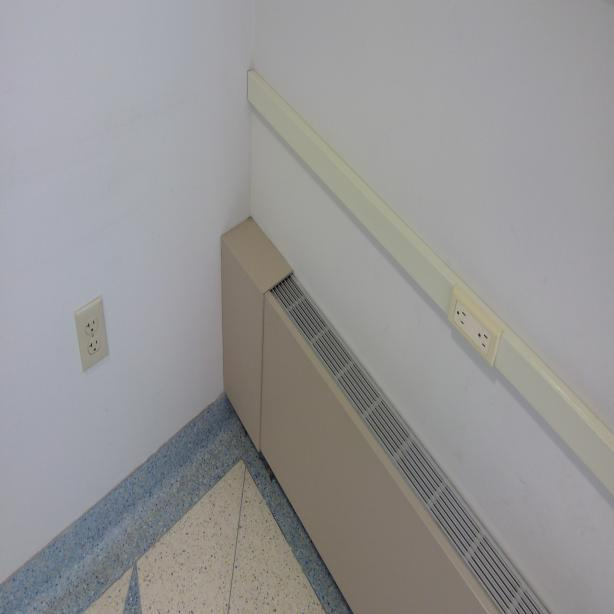typeb: (476, 321, 494, 355), (452, 297, 468, 332), (85, 316, 99, 334), (86, 336, 101, 352)
